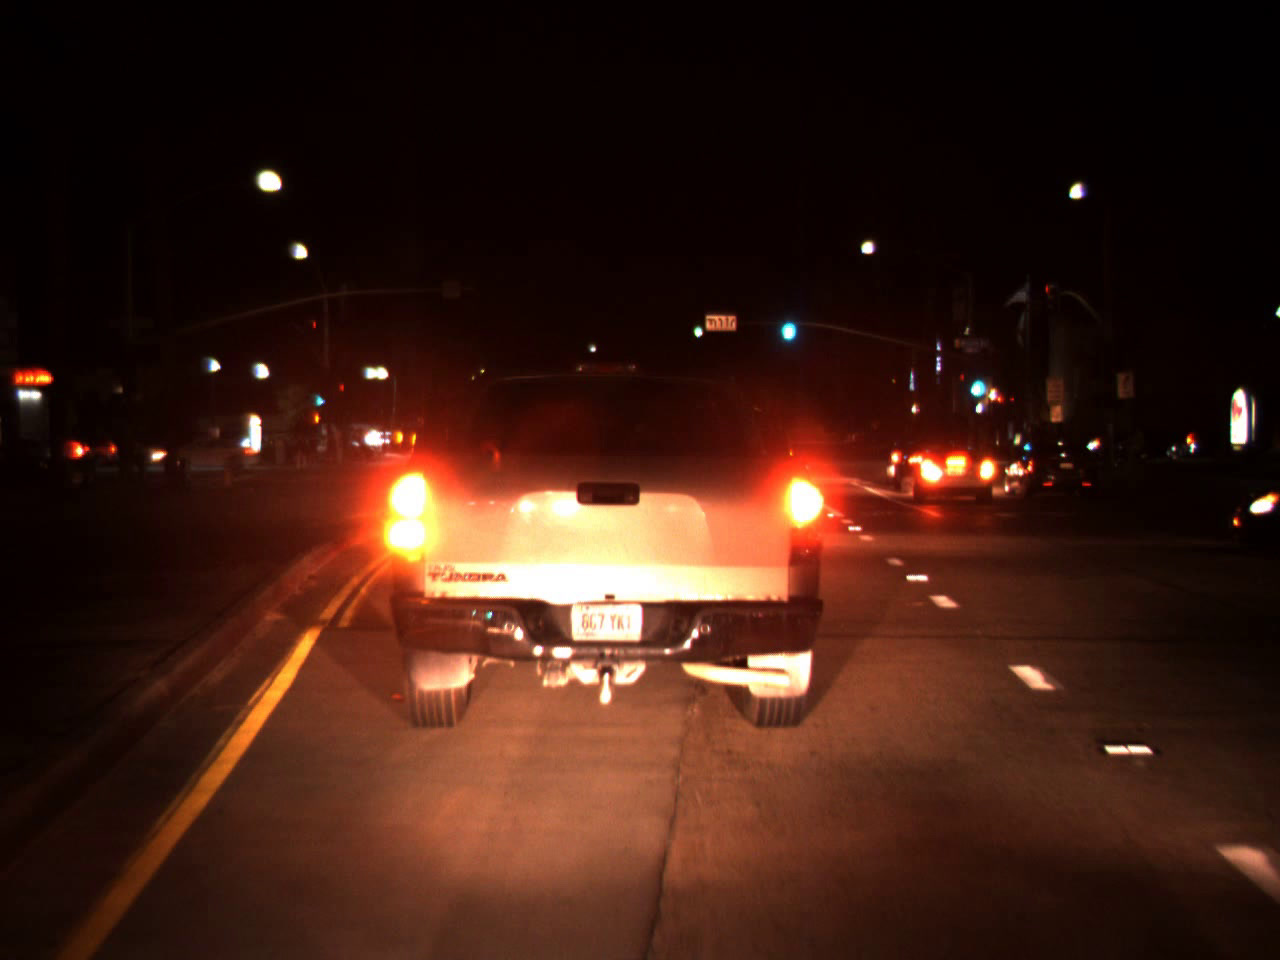go: (775, 301, 798, 348), (966, 361, 987, 403), (691, 313, 701, 340), (312, 389, 326, 407)
